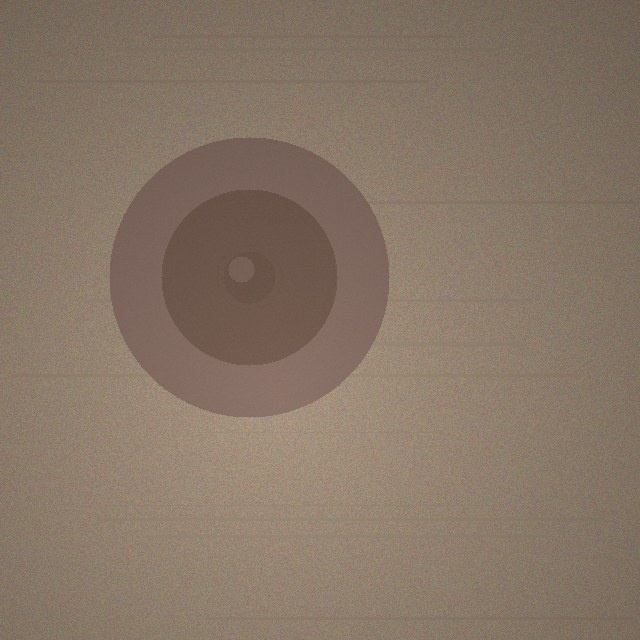good: (109, 137, 389, 417)
